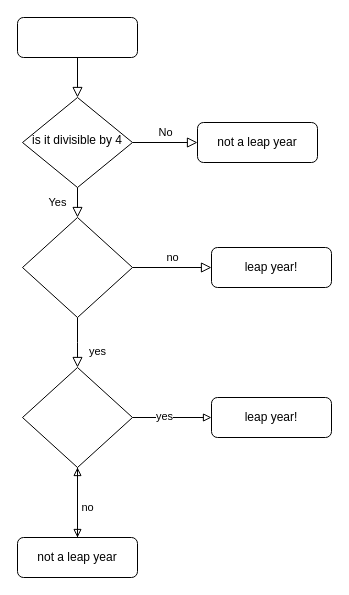
Image size: 349x595. Some labels were removed from this diagram. The shapes that lost their labels are listed below. From the top down, each one's centre as x and y in pixels, then its label:
the point at 77,37: Is it a leap year?
the point at 77,267: is it divisble by 100
the point at 77,417: is it divisble by 400
